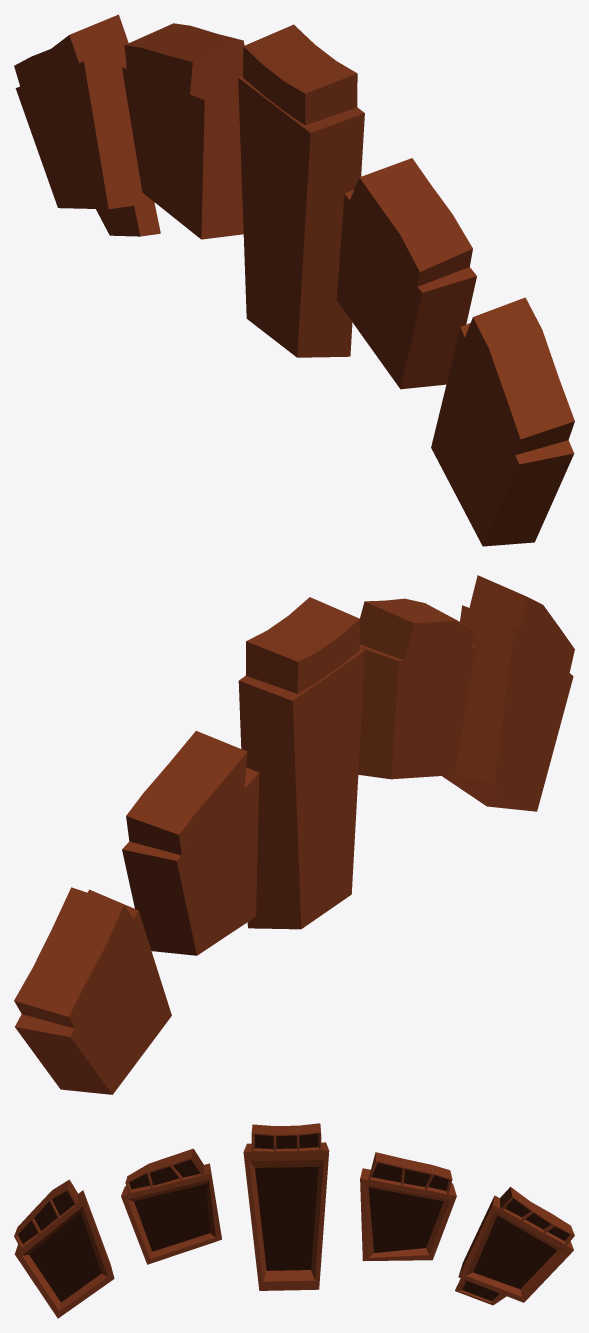
File: levelCubes.fbx
3 views of the same model, one above another, from view 1: azimuth 30°, elevation 25°; view 2: azimuth 150°, elevation 25°; view 3: azimuth 270°, elevation 25° (orthographic). The views are drawn at different scales.
Parts seen in each view (by area): view 1: levelCube3, levelCube1, levelCube2, levelCube4, levelCube5; view 2: levelCube3, levelCube4, levelCube5, levelCube1, levelCube2; view 3: levelCube3, levelCube5, levelCube4, levelCube1, levelCube2.
Boxes of the visible parts, x1=… form: levelCube3: x1=238, y1=24, x2=364, y2=357; levelCube1: x1=431, y1=297, x2=574, y2=546; levelCube2: x1=336, y1=158, x2=476, y2=389; levelCube4: x1=122, y1=23, x2=244, y2=239; levelCube5: x1=14, y1=14, x2=160, y2=236; levelCube3: x1=238, y1=597, x2=364, y2=929; levelCube4: x1=122, y1=731, x2=259, y2=955; levelCube5: x1=14, y1=887, x2=171, y2=1094; levelCube1: x1=442, y1=575, x2=574, y2=811; levelCube2: x1=358, y1=598, x2=476, y2=779; levelCube3: x1=243, y1=1123, x2=329, y2=1290; levelCube5: x1=455, y1=1187, x2=574, y2=1305; levelCube4: x1=360, y1=1152, x2=456, y2=1261; levelCube1: x1=14, y1=1179, x2=114, y2=1318; levelCube2: x1=121, y1=1148, x2=221, y2=1264.
Size of the model in its own units: 0.6341 by 3.73 by 10.17.
